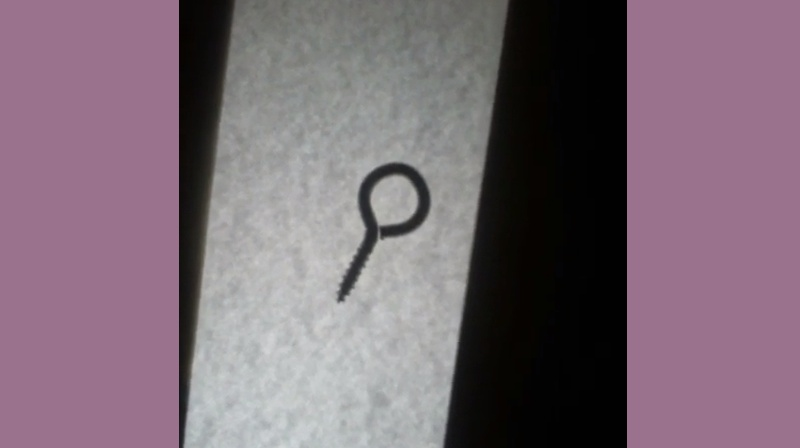O001: (333, 155, 437, 305)
